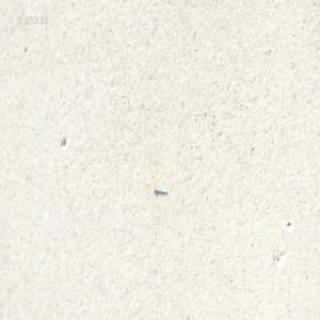Nailtrack_idkeyframe: (153, 185, 166, 194)
